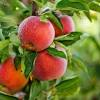Apple: (32, 43, 68, 81), (18, 12, 52, 51), (0, 53, 29, 93), (56, 13, 74, 35)
